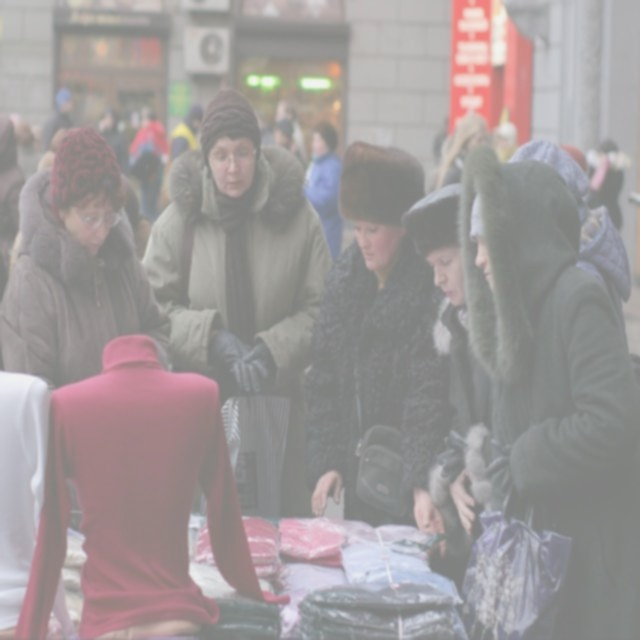pessoa: (454, 136, 640, 640), (141, 88, 337, 520), (12, 333, 264, 630), (302, 139, 456, 562), (0, 125, 174, 392), (394, 180, 492, 564), (504, 135, 634, 357), (1, 96, 124, 200), (298, 118, 346, 266), (128, 108, 170, 224), (585, 138, 633, 234), (434, 111, 491, 190), (554, 142, 608, 202), (166, 103, 205, 174), (272, 96, 310, 168), (133, 150, 169, 212), (270, 120, 305, 171), (494, 116, 528, 154), (254, 105, 276, 149), (434, 118, 454, 166)
